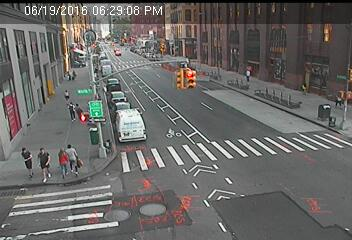neg: (105, 102, 122, 125), (112, 39, 126, 58), (102, 29, 116, 48), (91, 36, 104, 53), (106, 76, 118, 93), (117, 23, 126, 34), (105, 49, 113, 58), (106, 63, 113, 72)
pos: (28, 144, 57, 182), (11, 146, 36, 179), (299, 76, 315, 97), (242, 68, 254, 84), (60, 87, 72, 102)
